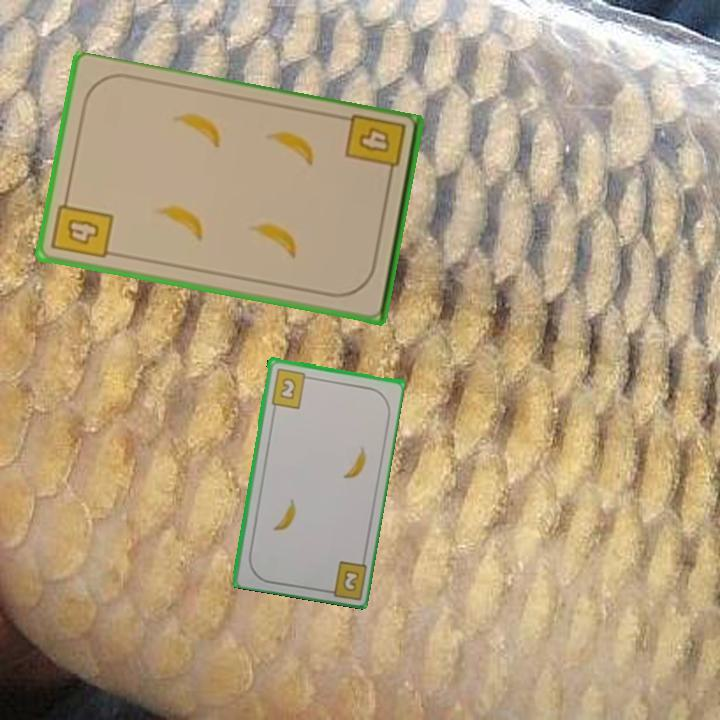2b: (267, 365, 314, 411), (339, 566, 362, 594)
4b: (342, 111, 409, 184), (48, 191, 116, 262)
